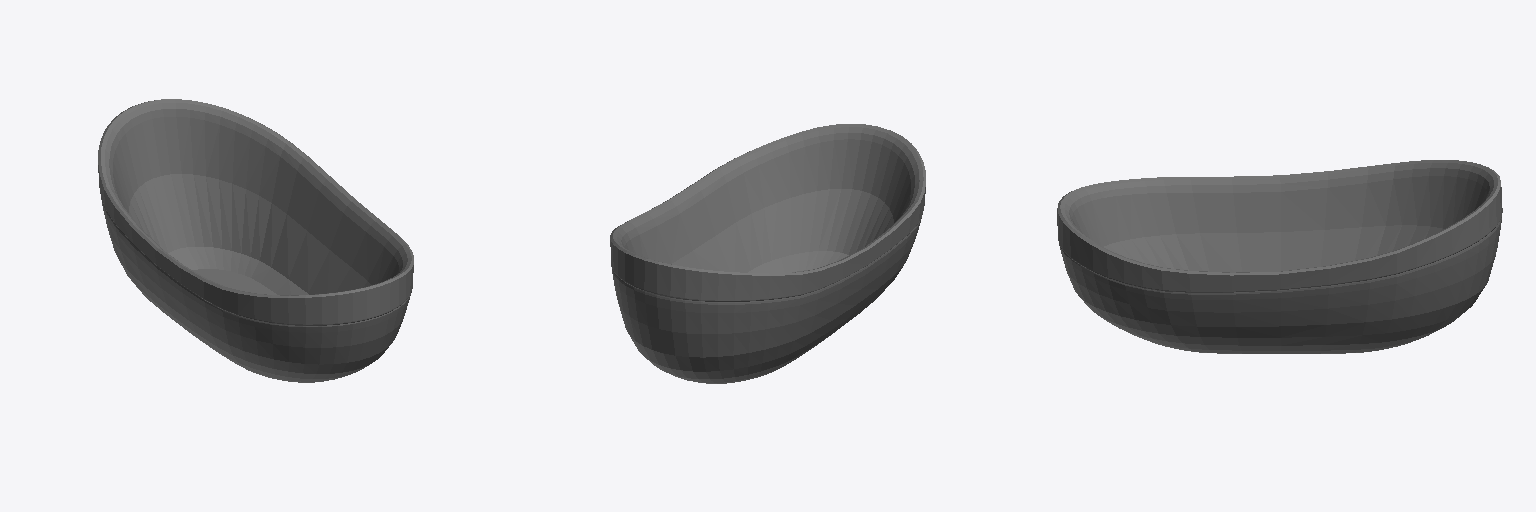
Rendered from Bathtub.obj.
3 renders of one model, left to right at view 1: azimuth 30°, elevation 25°; view 2: azimuth 150°, elevation 25°; view 3: azimuth 270°, elevation 25°, orthographic.
Parts seen in each view (by area): view 1: Bathtub 01.lxl (2); view 2: Bathtub 01.lxl (2); view 3: Bathtub 01.lxl (2).
Part boxes in pixels (left/top/right/bottom): Bathtub 01.lxl (2): left=98, top=99, right=413, bottom=382; Bathtub 01.lxl (2): left=610, top=124, right=925, bottom=383; Bathtub 01.lxl (2): left=1057, top=160, right=1502, bottom=353.
Size of the model in its own units: 1.04 by 0.7324 by 1.99.